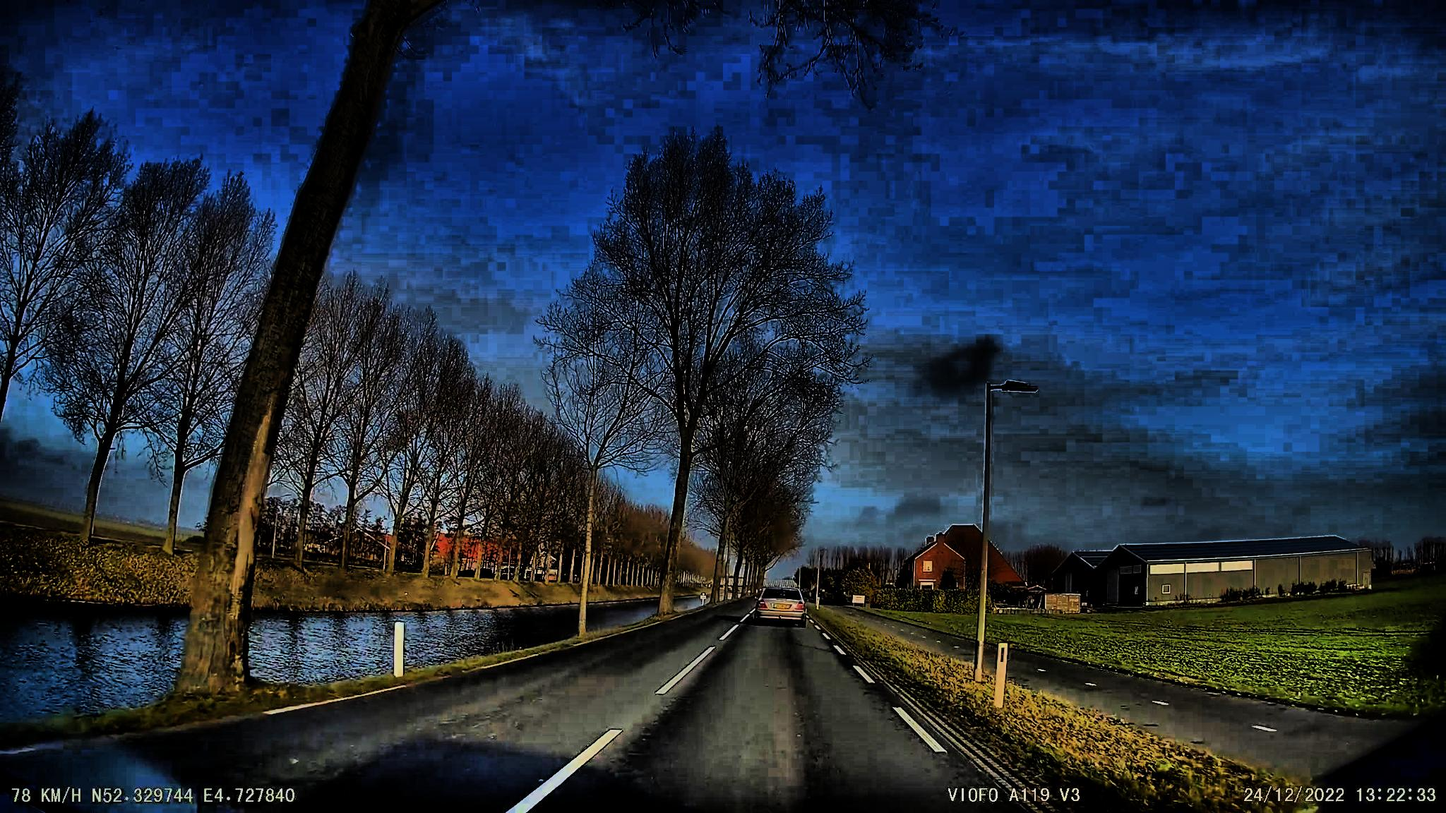Roads: (0, 613, 1095, 813)
